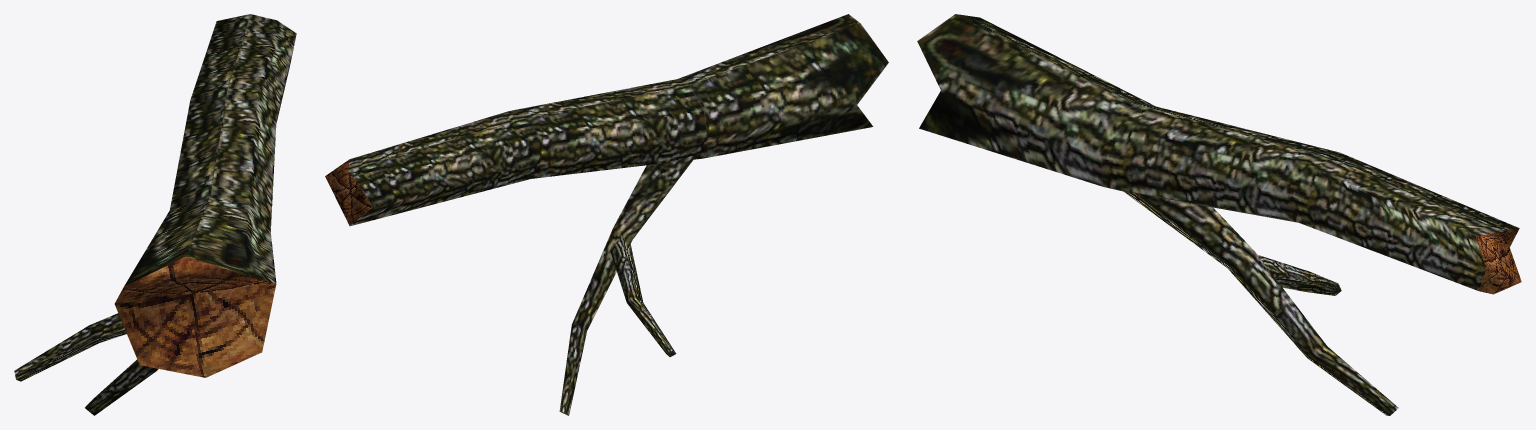
File: OVERHILL_A_01_CYLINDER01.fbx
3 views of the same model, side by side, from view 1: azimuth 30°, elevation 25°; view 2: azimuth 150°, elevation 25°; view 3: azimuth 270°, elevation 25° (orthographic). The views are drawn at different scales.
Visible parts, largest first — view 1: OVERHILL_A_01_CYLINDER01; view 2: OVERHILL_A_01_CYLINDER01; view 3: OVERHILL_A_01_CYLINDER01.
Boxes of the visible parts, <box> form: OVERHILL_A_01_CYLINDER01: <box>14,14,296,415</box>; OVERHILL_A_01_CYLINDER01: <box>325,14,888,415</box>; OVERHILL_A_01_CYLINDER01: <box>917,14,1521,415</box>.
Size of the model in its own units: 36931 by 28814 by 46682.
Materials: 3 (3 with a texture image).
